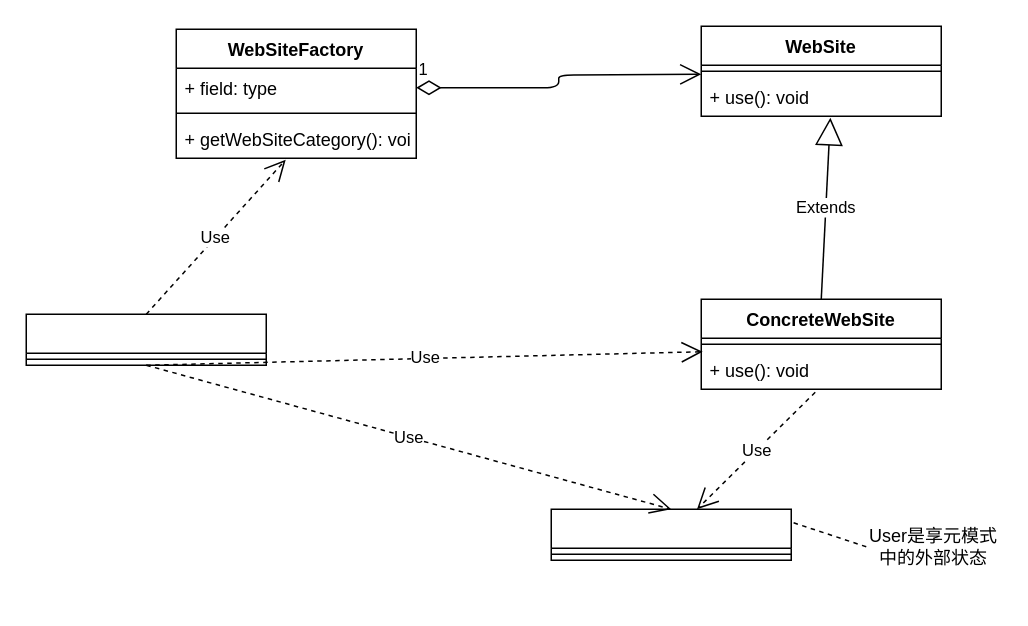
Image size: 1028x626. Some labels were removed from this diagram. The centre of each missing label's shape, as x and y in pixels:
"Client" goes at point (145, 339).
"User" goes at point (670, 534).
